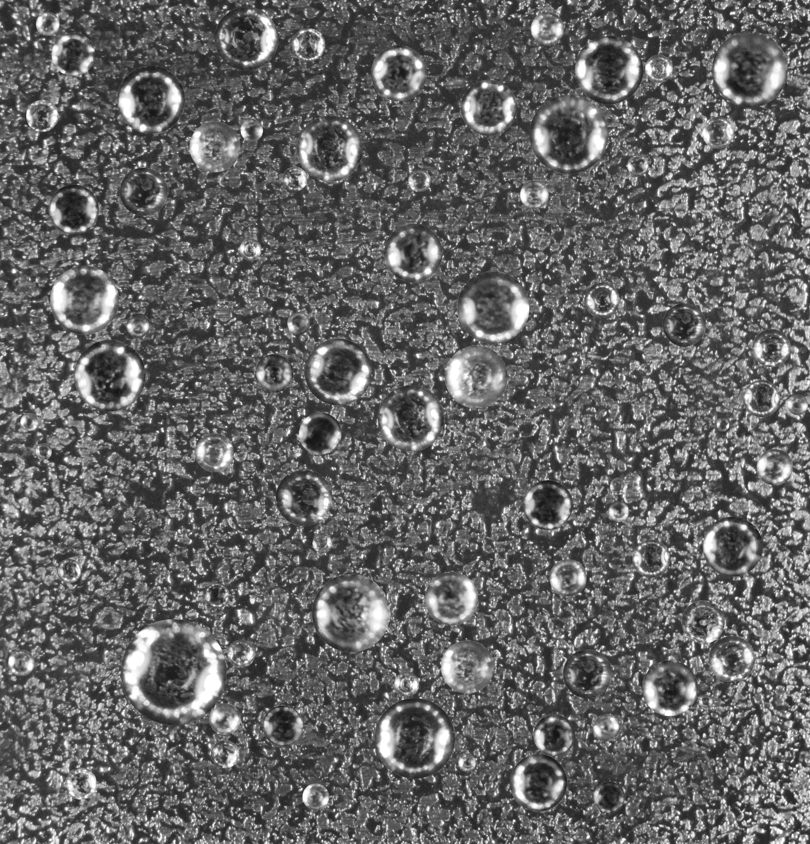Bubble: (120, 619, 226, 725), (374, 698, 454, 778), (529, 94, 608, 173), (312, 574, 389, 652), (712, 31, 787, 107), (457, 271, 529, 343), (74, 340, 145, 411), (50, 265, 118, 334), (575, 36, 643, 104), (117, 65, 184, 133), (304, 338, 371, 405), (377, 385, 443, 451), (297, 115, 362, 181), (214, 6, 278, 70), (445, 345, 507, 408), (702, 516, 762, 576), (384, 223, 442, 282), (510, 754, 567, 811), (275, 469, 331, 525), (461, 79, 516, 135), (371, 45, 426, 101), (642, 660, 697, 716), (425, 572, 478, 625), (441, 640, 493, 693), (189, 121, 240, 172), (48, 184, 98, 234), (523, 480, 572, 530), (563, 649, 611, 698), (119, 167, 167, 215), (708, 636, 754, 682), (662, 303, 705, 346), (681, 600, 724, 643), (51, 32, 94, 75), (533, 714, 575, 756), (299, 412, 341, 454), (262, 705, 303, 746), (255, 354, 293, 392), (752, 329, 790, 367), (195, 433, 233, 471), (632, 540, 670, 577), (549, 559, 586, 596), (743, 380, 780, 417), (756, 449, 793, 485), (584, 282, 619, 317), (291, 28, 324, 61), (531, 12, 563, 44), (64, 767, 96, 799), (26, 99, 58, 131), (702, 116, 733, 148), (209, 703, 240, 734), (593, 781, 624, 812), (211, 740, 239, 768), (520, 180, 548, 208), (227, 639, 255, 667), (645, 54, 672, 82), (302, 783, 329, 810), (8, 649, 34, 676), (593, 714, 619, 741), (204, 583, 229, 608), (394, 671, 419, 696), (282, 166, 307, 191), (126, 313, 150, 337), (57, 559, 81, 583), (35, 11, 59, 35), (239, 238, 261, 260), (408, 169, 430, 191), (287, 312, 309, 334), (240, 119, 262, 141), (627, 154, 648, 176), (787, 394, 808, 415), (608, 501, 629, 522), (312, 533, 332, 553), (20, 413, 38, 430), (458, 753, 475, 771), (610, 477, 627, 494), (35, 443, 51, 459), (715, 417, 729, 431), (698, 694, 712, 708), (28, 274, 38, 283), (512, 430, 521, 439)
